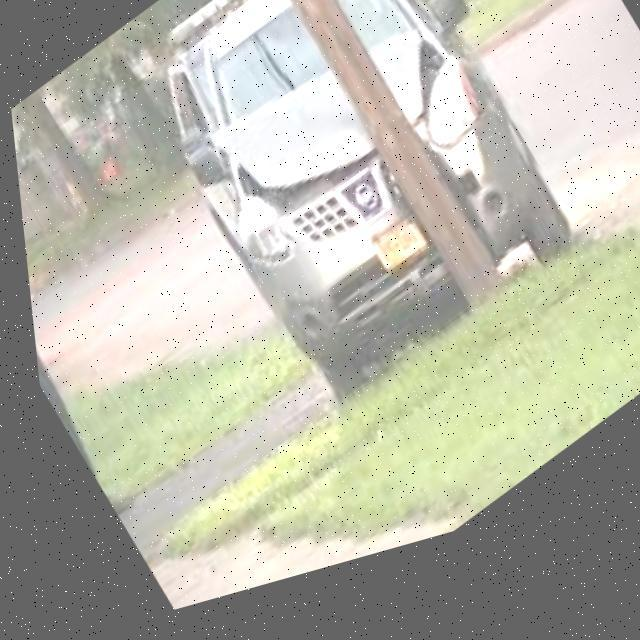Car Accident Detector - v4 Generation1 Exported: (118, 0, 608, 480)
